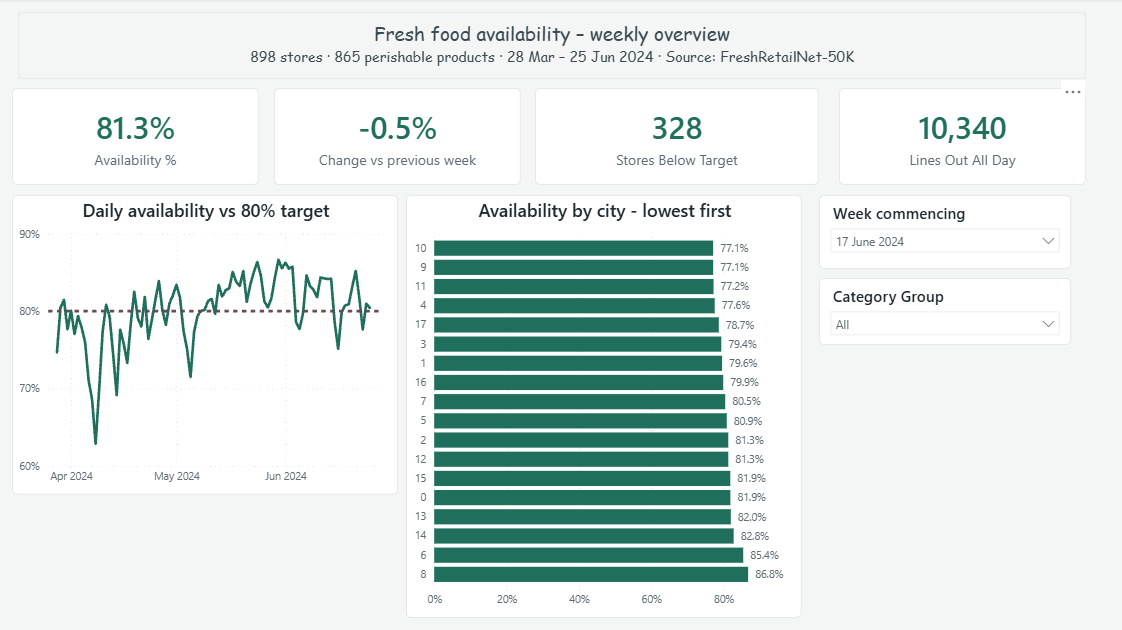

What the dashboard file says about the page in this screenshot:
{"tool":"powerbi","page":{"name":"Page 1","canvas":[1280,720],"ordinal":0},"visuals":[{"type":"card","fields":{"Values":["_Measures.Availability %"]},"box":[17,102.1,280.3,110.1],"z":0},{"type":"card","fields":{"Values":["_Measures.Lines Out All Day"]},"box":[955.5,102.1,280.3,110.1],"z":1000},{"type":"card","fields":{"Values":["_Measures.Stores Below Target"]},"box":[610.5,102.1,322.3,110.1],"z":2000},{"type":"card","title":"Change vs previous week","fields":{"Values":["_Measures.Availability Change (pts)"]},"box":[314.3,102.1,280.3,110.1],"z":3000},{"type":"slicer","fields":{"Values":["dim_date.week_start"]},"box":[932.8,223.5,286,84],"z":4000},{"type":"slicer","fields":{"Values":["dim_product.management_group_id"]},"box":[932.8,317.7,286,76],"z":5000},{"type":"textbox","box":[23.8,15.9,1211.9,76],"z":6000},{"type":"lineChart","title":"Daily availability vs 80% target","fields":{"Y":["_Measures.Availability %"],"Category":["dim_date.dt"]},"box":[17,223.5,438,340.4],"z":7000},{"type":"clusteredBarChart","title":"Availability by city - lowest first","fields":{"Category":["dim_store.city_id"],"Y":["_Measures.Availability %"]},"box":[464.1,223.5,449.4,480],"z":8000}]}

Visuals, with their boxes in screenshot pixels (x1, y1, x2, y2), scaled from the page's 1280x720 canvas onto the 1122x630 screenshot:
card - _Measures.Availability %: l=15, t=89, r=261, b=186
card - _Measures.Lines Out All Day: l=838, t=89, r=1083, b=186
card - _Measures.Stores Below Target: l=535, t=89, r=818, b=186
"Change vs previous week" card: l=276, t=89, r=521, b=186
slicer - dim_date.week_start: l=818, t=196, r=1068, b=269
slicer - dim_product.management_group_id: l=818, t=278, r=1068, b=344
textbox: l=21, t=14, r=1083, b=80
"Daily availability vs 80% target" lineChart: l=15, t=196, r=399, b=493
"Availability by city - lowest first" clusteredBarChart: l=407, t=196, r=801, b=616
